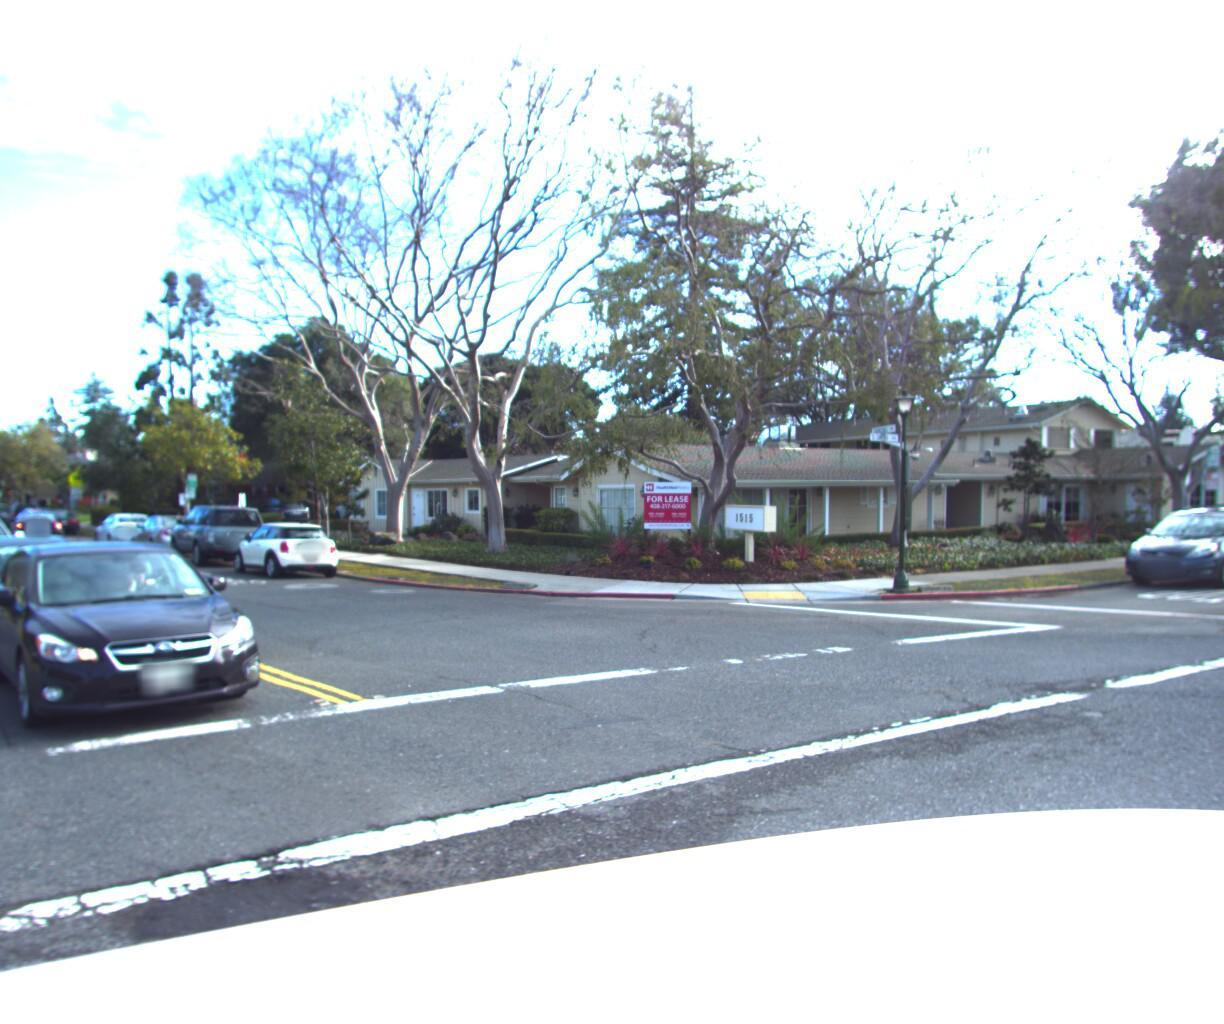car: (0, 522, 300, 765), (0, 519, 141, 658), (1107, 493, 1224, 592), (225, 507, 354, 579), (161, 492, 276, 569), (126, 500, 222, 554), (0, 488, 45, 602), (91, 500, 172, 547), (2, 500, 66, 541), (254, 490, 312, 522), (33, 501, 88, 528)
